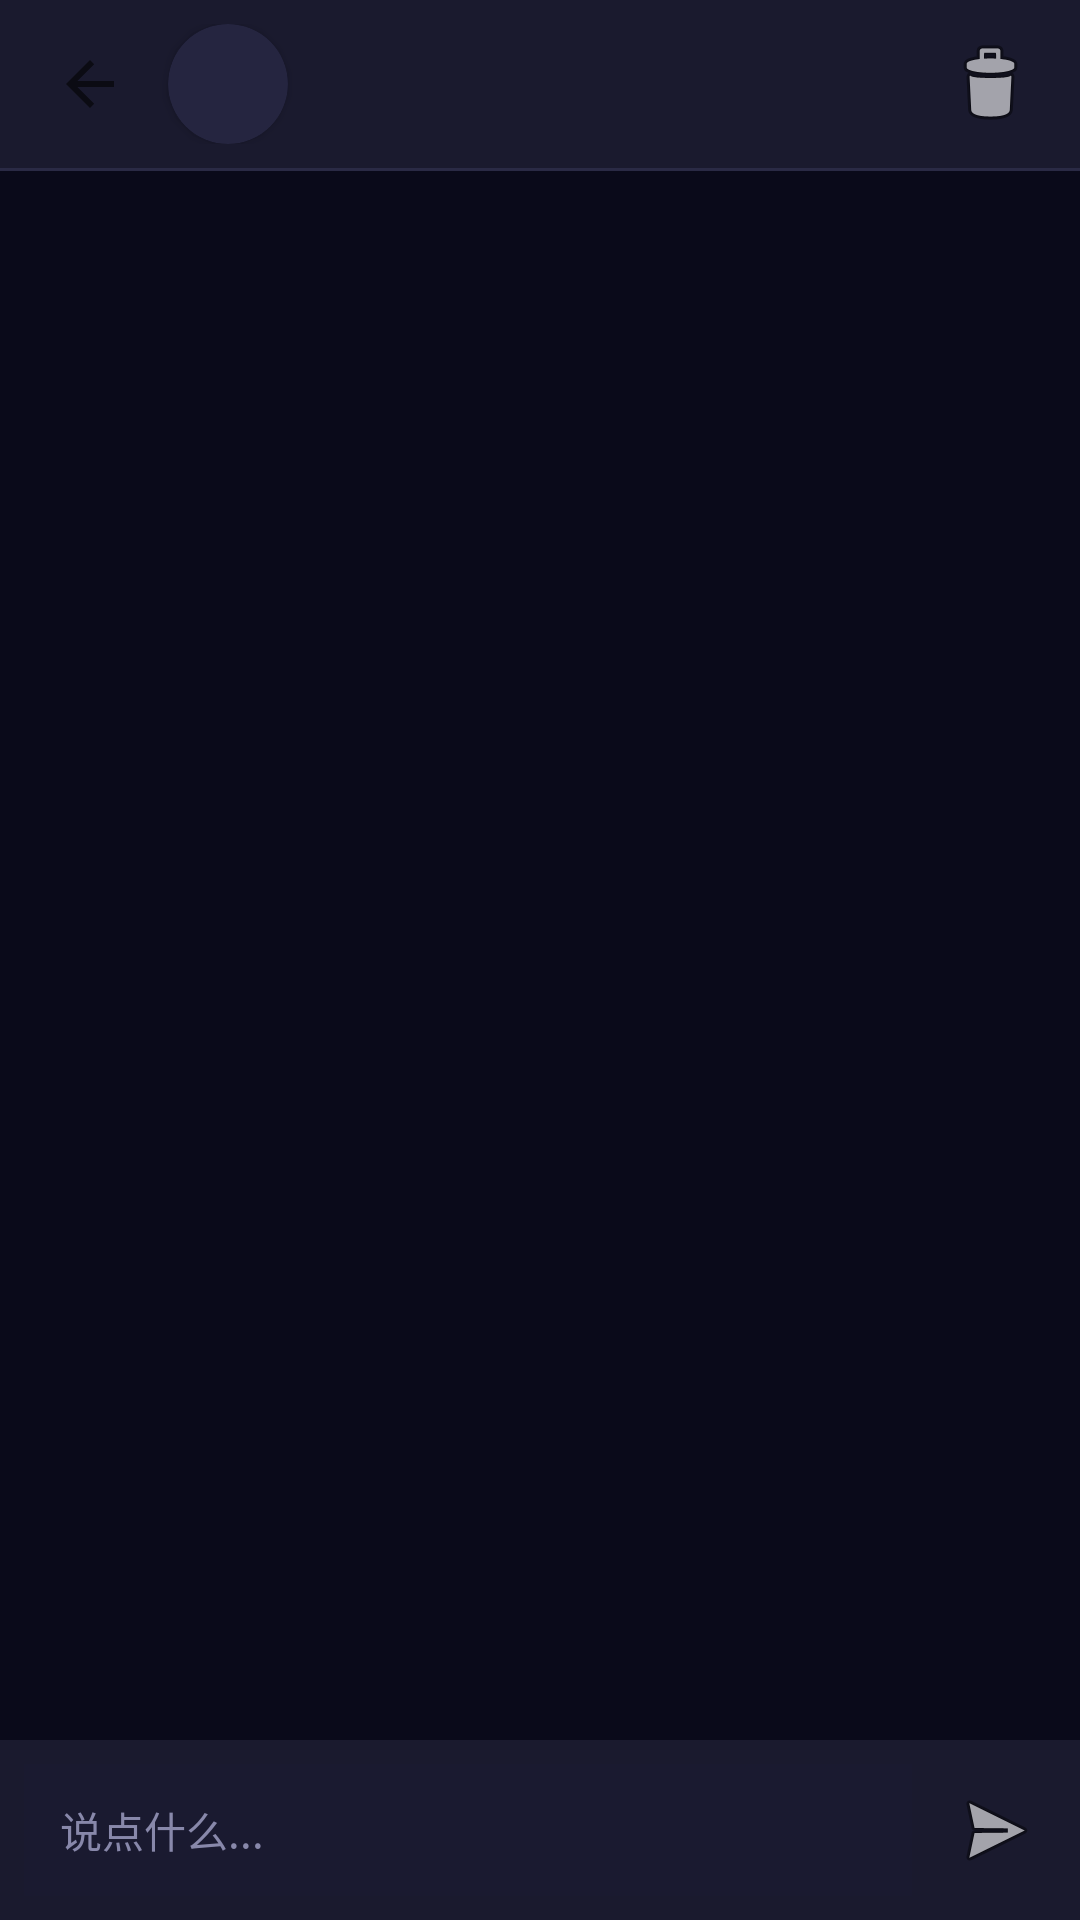

Icons on this 1080w x 1920h Android screen, each with the point to tap as point (x, y):
发送: point (997, 1830)
清空聊天: point (990, 82)
返回: point (90, 84)
